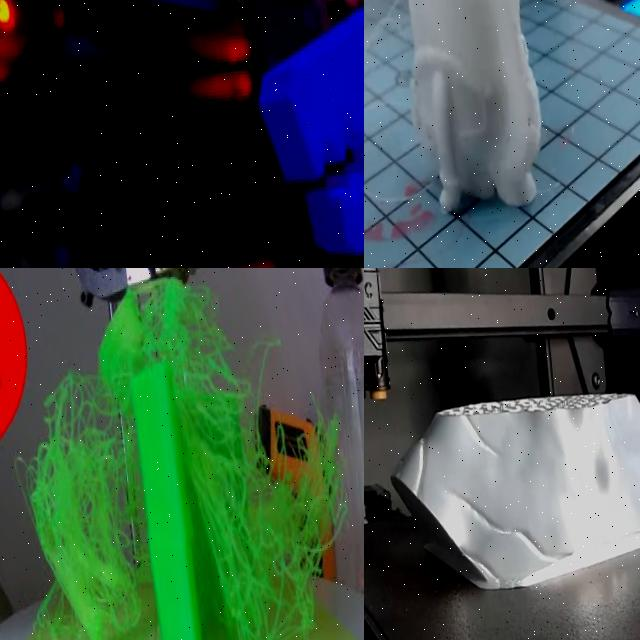spaghetti: (100, 278, 341, 640), (16, 375, 147, 640)
